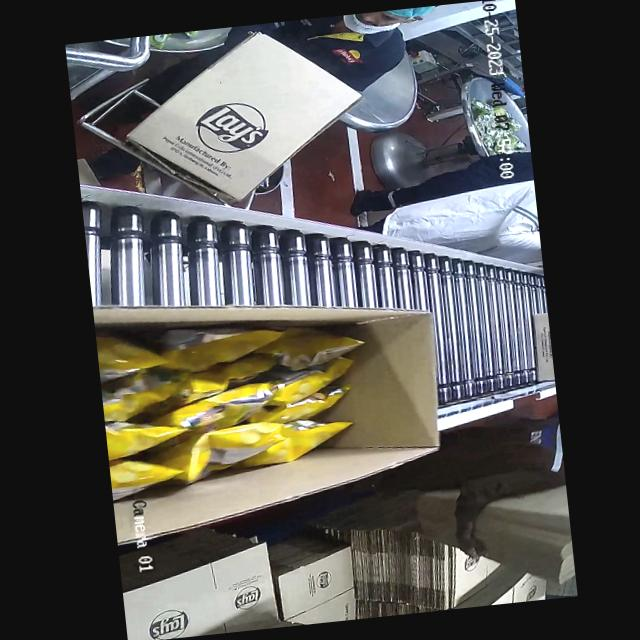salted: (94, 302, 388, 494)
